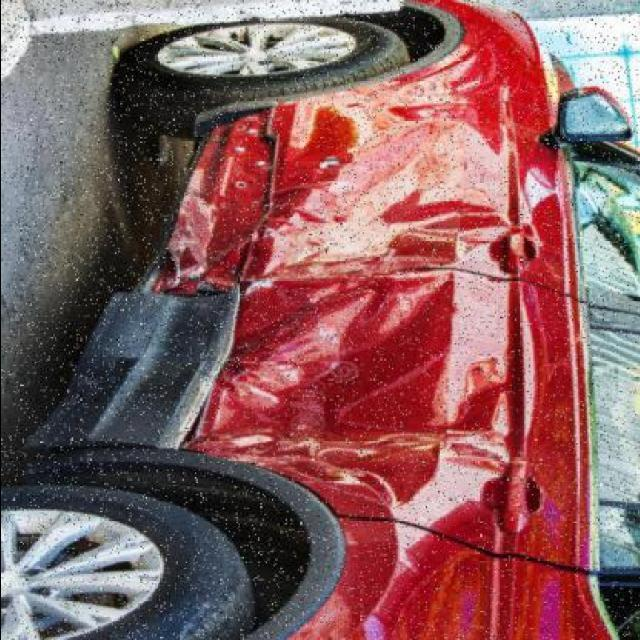doorouter-dent: (219, 272, 587, 546), (221, 93, 585, 276)
